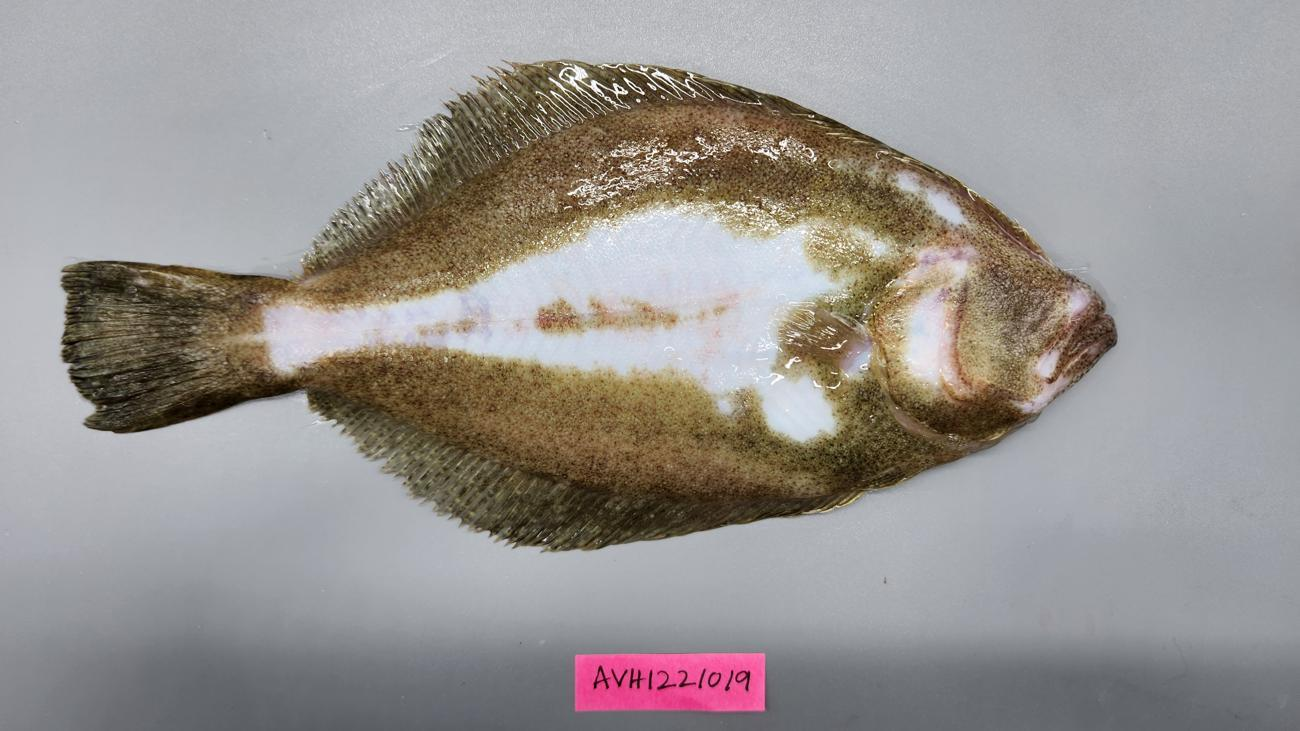VIDYH: (229, 341, 790, 495), (533, 259, 750, 410), (772, 310, 860, 380)
VIOUY: (59, 62, 1116, 548)
